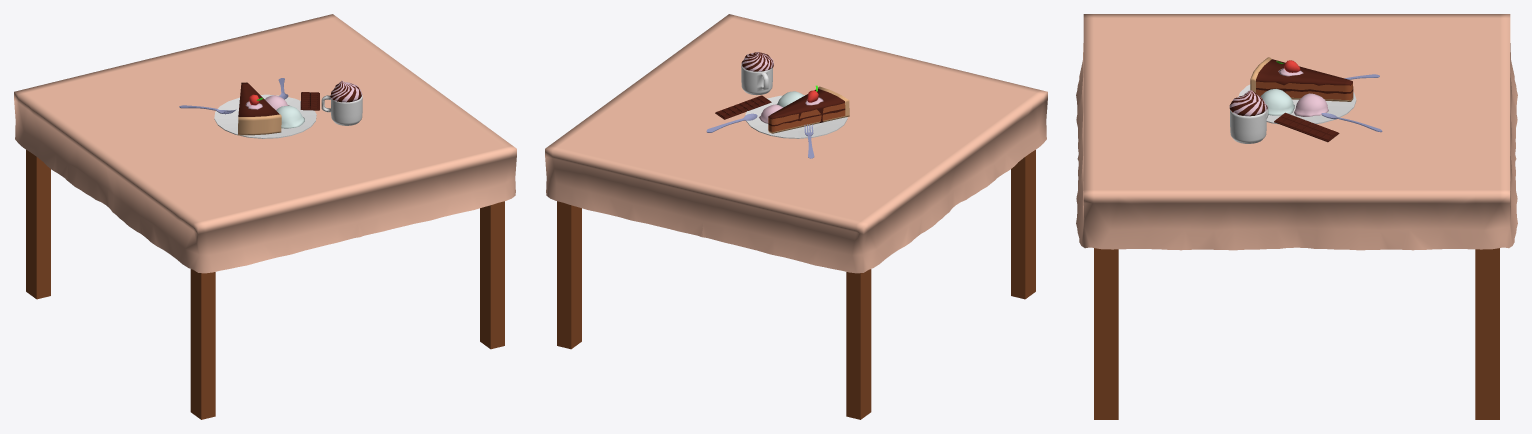
Rendered from sweet_chocombo.glb.
3 views of the same model, side by side, from view 1: azimuth 30°, elevation 25°; view 2: azimuth 150°, elevation 25°; view 3: azimuth 270°, elevation 25° (orthographic). The views are drawn at different scales.
Parts seen in each view (by area): view 1: Table, Cake, Plate, Circle, Ice; view 2: Table, Cake, Circle, Plate, ChocoBar; view 3: Table, Cake, Circle, Plate, ChocoBar, Ice, Ice.001.
Boxes of the visible parts, x1,y1,x2,y2 form: Table: (14, 14, 516, 419); Cake: (238, 82, 281, 135); Plate: (214, 94, 316, 138); Circle: (321, 80, 362, 125); Ice: (276, 105, 304, 128); Table: (545, 14, 1047, 419); Cake: (768, 86, 849, 133); Circle: (741, 52, 773, 95); Plate: (745, 95, 847, 138); ChocoBar: (715, 95, 771, 119); Table: (1076, 14, 1517, 419); Cake: (1250, 57, 1353, 101); Circle: (1229, 90, 1268, 143); Plate: (1238, 84, 1356, 124); ChocoBar: (1274, 112, 1339, 142); Ice: (1261, 89, 1294, 115); Ice.001: (1294, 93, 1328, 116).
Bounding box in the file's own units: 216 × 150 × 218.
